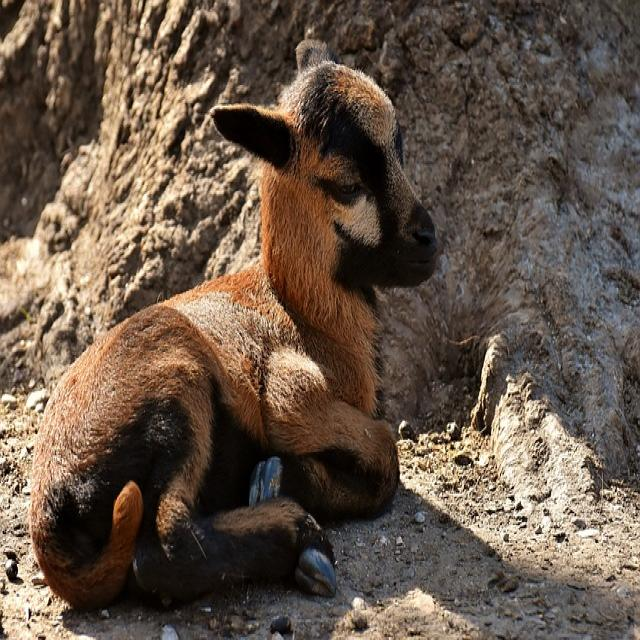sheep: (28, 36, 439, 612)
